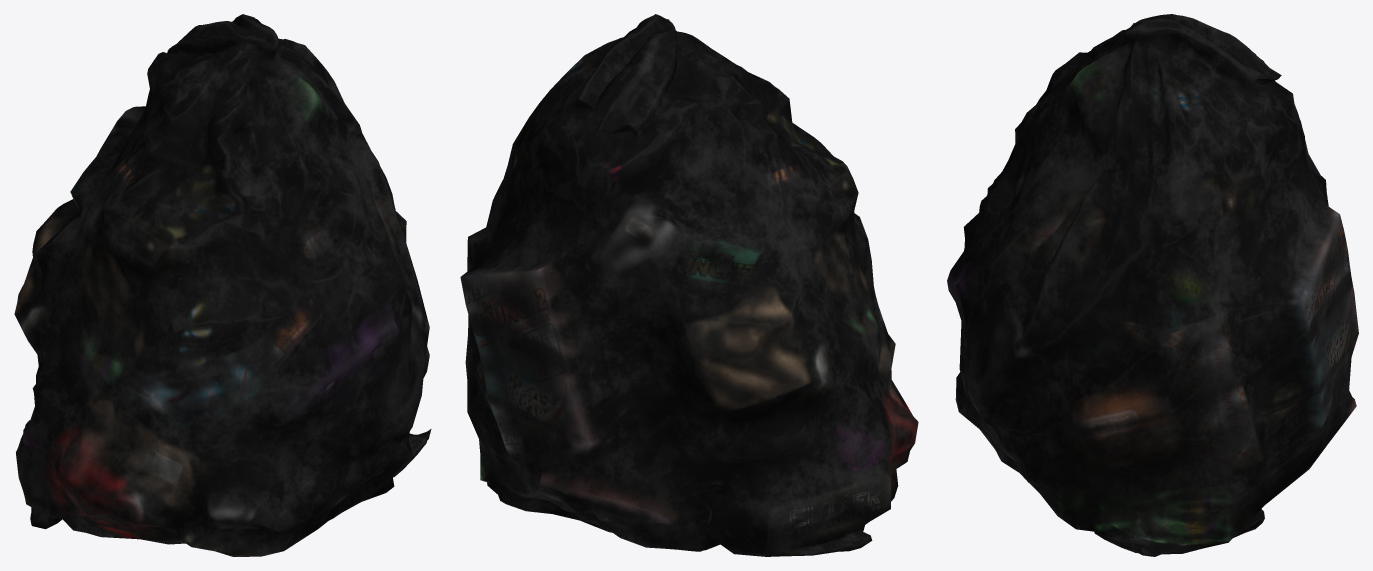
The model's file is trashbag_floor_centered_1k.glb.
3 renders of one model, left to right at view 1: azimuth 30°, elevation 25°; view 2: azimuth 150°, elevation 25°; view 3: azimuth 270°, elevation 25°, orthographic. The views are drawn at different scales.
Parts seen in each view (by area): view 1: trashbag; view 2: trashbag; view 3: trashbag.
Boxes of the visible parts, x1,y1,x2,y2 form: trashbag: [14, 14, 431, 556]; trashbag: [460, 14, 918, 556]; trashbag: [947, 14, 1358, 556].
Bounding box in the file's own units: 0.5281 × 0.575 × 0.4629.
1 material, 1 textured.
